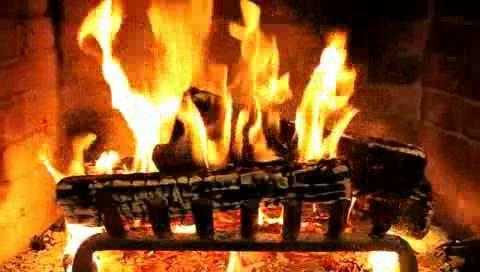fire: (85, 2, 362, 188)
